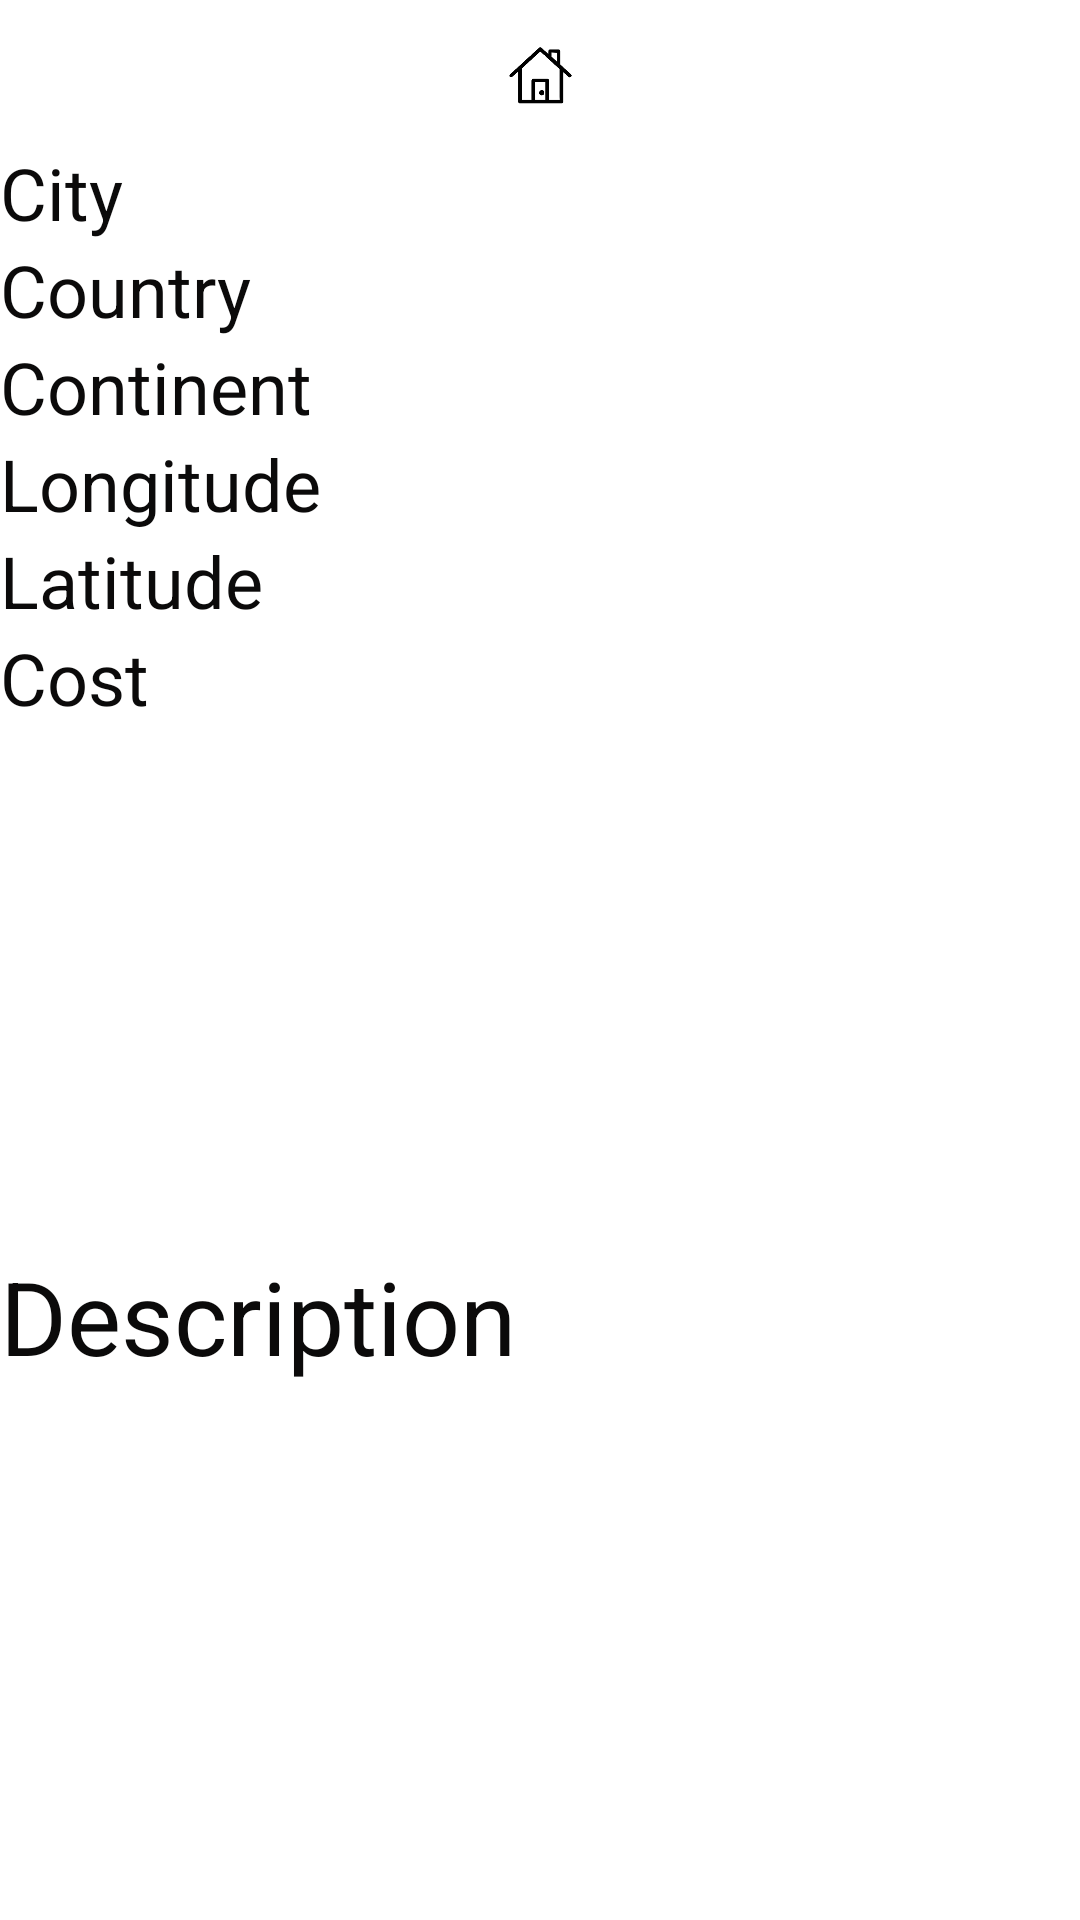

Locate icon controls on the screen. Image size 1080*1920, boxes as bbox=(x1, y1, x2, y2).
home: bbox=(509, 47, 572, 104)
